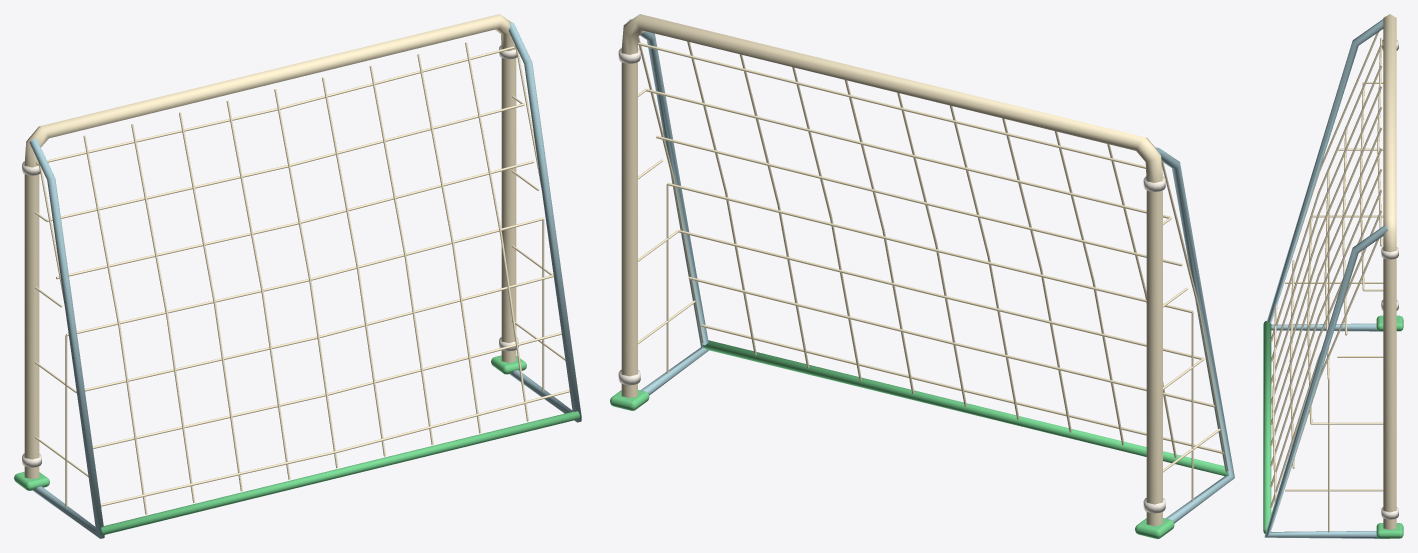
The model's file is goal.glb.
The picture shows the model from 3 angles, left to right: view 1: azimuth 30°, elevation 25°; view 2: azimuth 150°, elevation 25°; view 3: azimuth 270°, elevation 25°; orthographic projection. The views are drawn at different scales.
Visible parts, largest first — view 1: goal.Static.vinyl, goal.Static.net, goal.Static.metal; view 2: goal.Static.vinyl, goal.Static.net, goal.Static.metal; view 3: goal.Static.net, goal.Static.vinyl, goal.Static.metal.
Boxes of the visible parts, x1,y1,x2,y2 form: goal.Static.vinyl: (14, 14, 579, 535); goal.Static.net: (35, 42, 569, 514); goal.Static.metal: (29, 22, 581, 538); goal.Static.vinyl: (610, 14, 1228, 538); goal.Static.net: (638, 36, 1228, 501); goal.Static.metal: (627, 19, 1234, 523); goal.Static.net: (1270, 32, 1383, 532); goal.Static.vinyl: (1263, 14, 1403, 538); goal.Static.metal: (1264, 19, 1389, 538).
Size of the model in its own units: 21 by 14.44 by 5.71.
